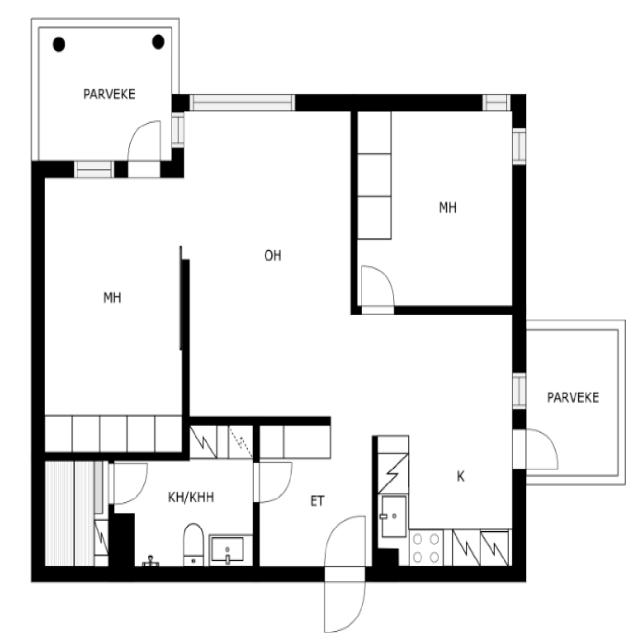door: (315, 507, 372, 639), (122, 111, 166, 180), (104, 454, 154, 514), (514, 423, 565, 474), (354, 260, 400, 316), (248, 456, 297, 506)
window: (184, 87, 304, 116), (66, 152, 124, 182), (474, 89, 516, 115), (169, 105, 188, 154), (510, 122, 530, 168), (510, 366, 528, 416)
zone: (186, 105, 354, 425), (39, 162, 184, 454), (371, 314, 522, 574), (353, 104, 519, 311), (109, 451, 258, 573), (254, 421, 373, 572), (39, 457, 113, 574)
